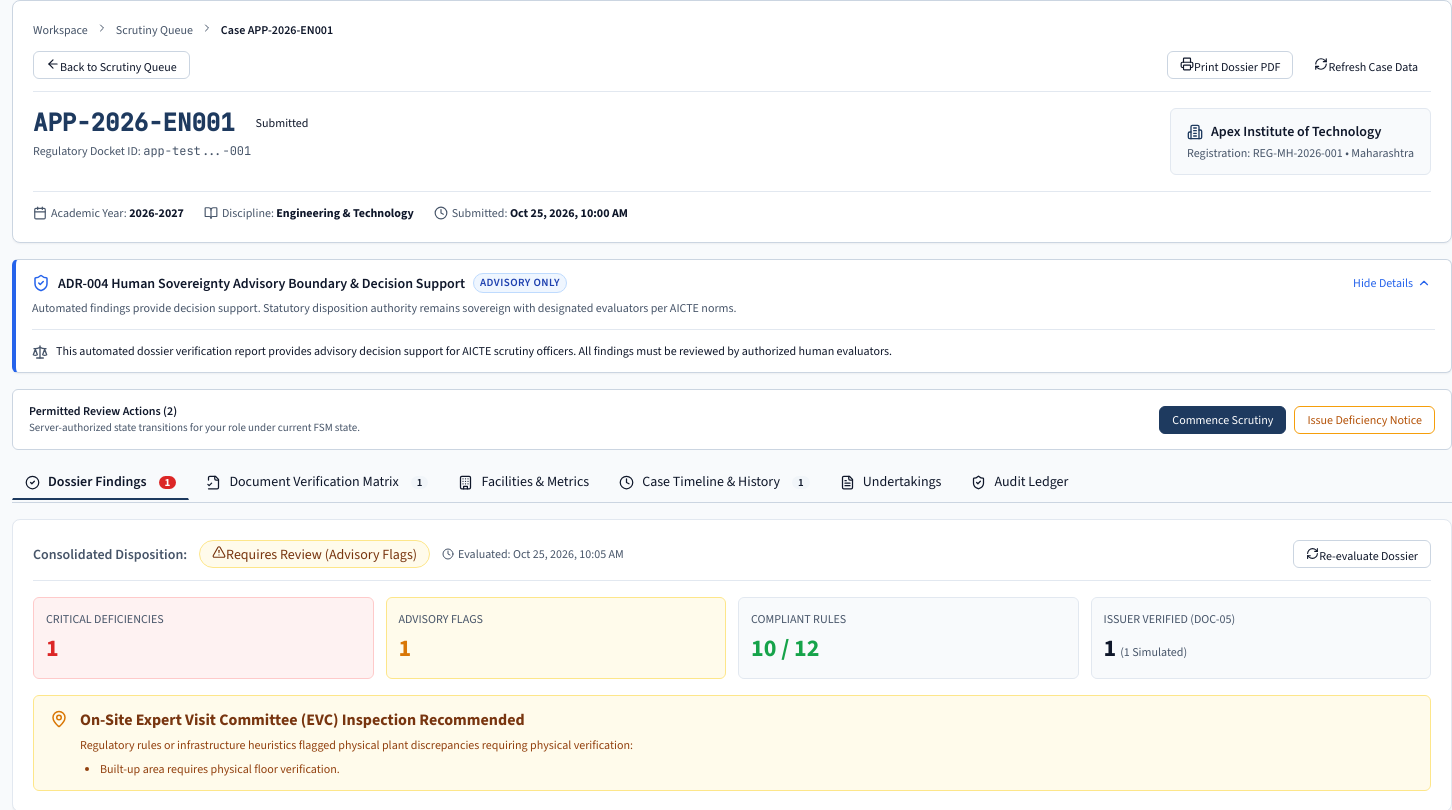
Test: Case Detail & Evidence Review (FE-04) › switches to document verification matrix tab and displays document attachments
Check: the heading "APP-2026-EN001" is shown, box [33, 108, 235, 138]
Click the tab "Document Verification Matrix 1" at (317, 483), box [193, 466, 441, 500]
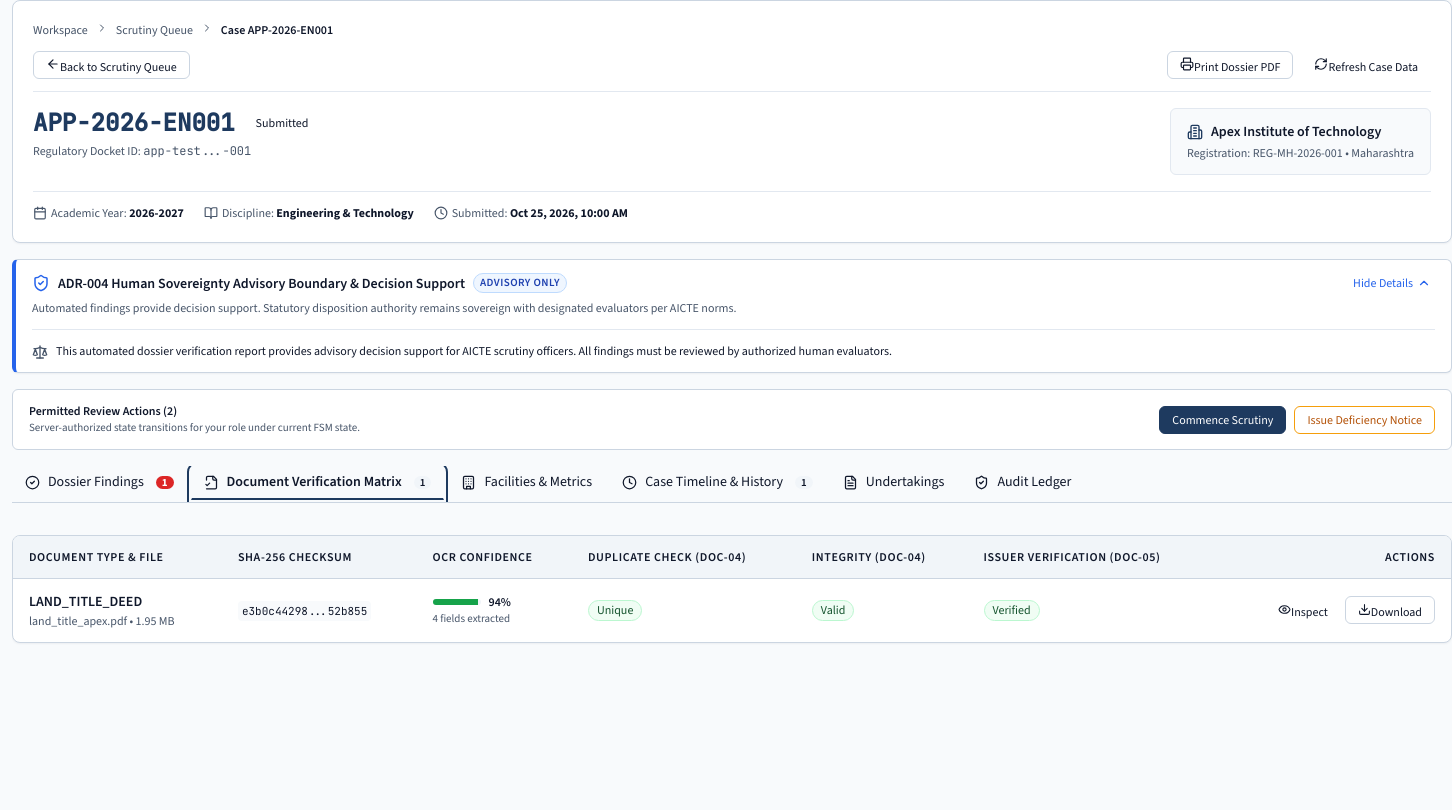
Check: the text "LAND_TITLE_DEED" is shown, box [29, 592, 142, 611]
Check: the text "land_title_apex.pdf • 1.95 MB" is shown, box [29, 613, 175, 629]
Check: the text "94%" is shown, box [488, 593, 511, 611]
